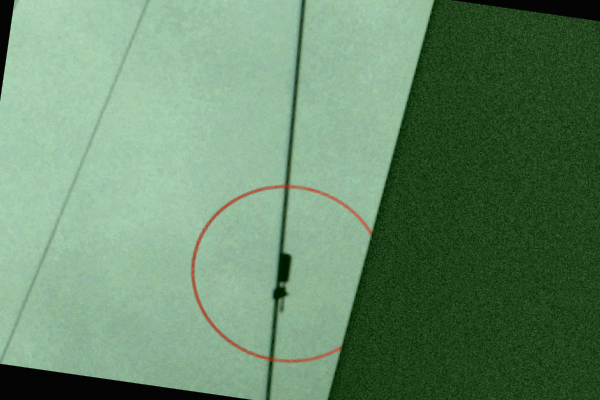damper_defect: (271, 249, 294, 313)
